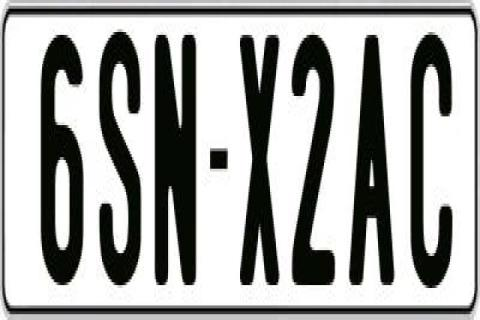0: (38, 29, 84, 294), (291, 32, 335, 294)
A: (346, 32, 394, 282)
C: (410, 27, 452, 286)
N: (152, 27, 199, 280)
S: (100, 32, 148, 285)
X: (238, 29, 280, 291)
